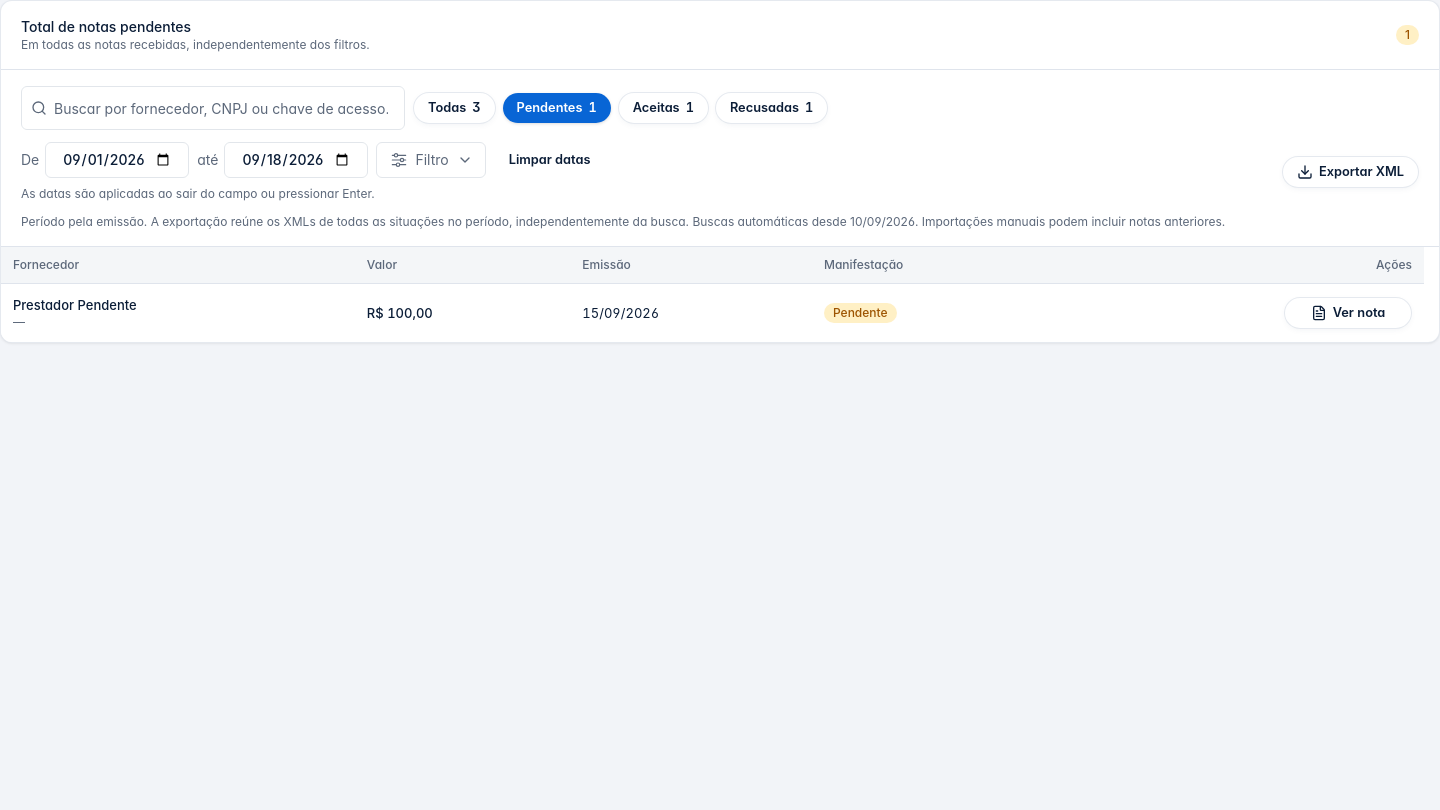
filtros e ações da interface › mantém aceite e recusa dentro dos detalhes e exige confirmação
The image size is (1440, 810).
Expected: the button "Recusar" is not shown
Click the button "Ver nota": (1348, 313) x1=1284 y1=297 x2=1412 y2=329
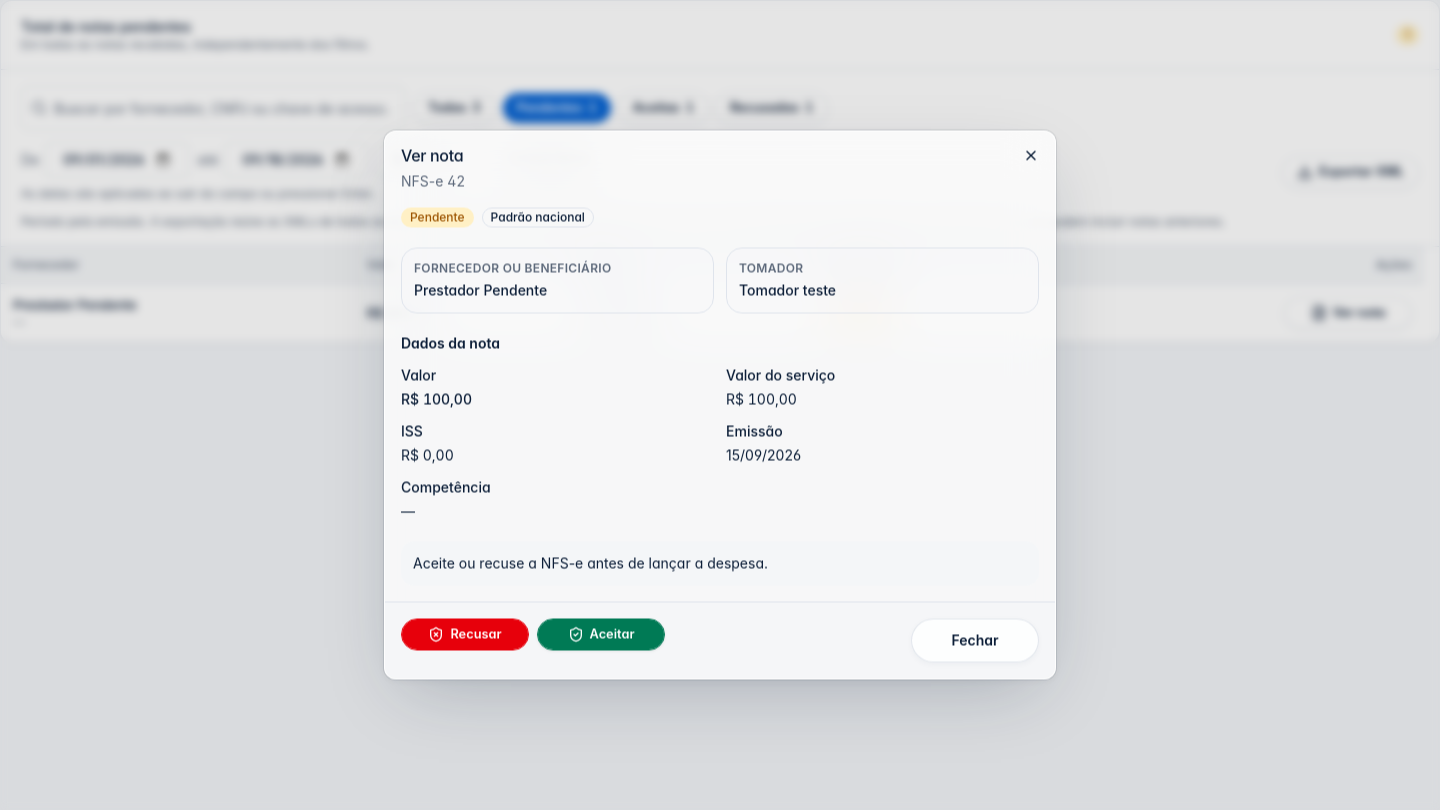
Click the button "Recusar": (465, 634) x1=401 y1=618 x2=529 y2=650
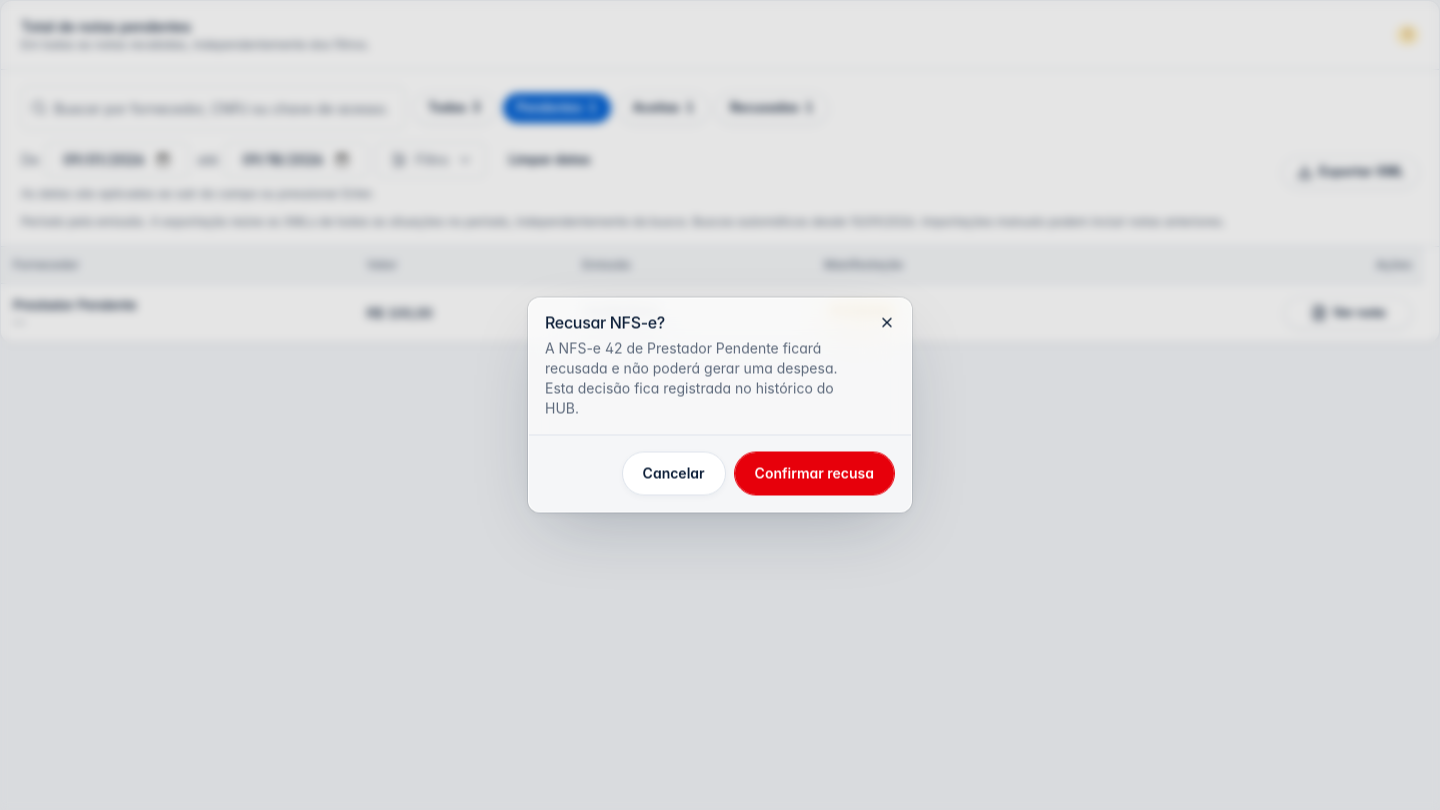
Expected: the dialog is shown, x1=528 y1=298 x2=912 y2=512
Click the button "Confirmar recusa": (814, 474) x1=734 y1=452 x2=895 y2=496
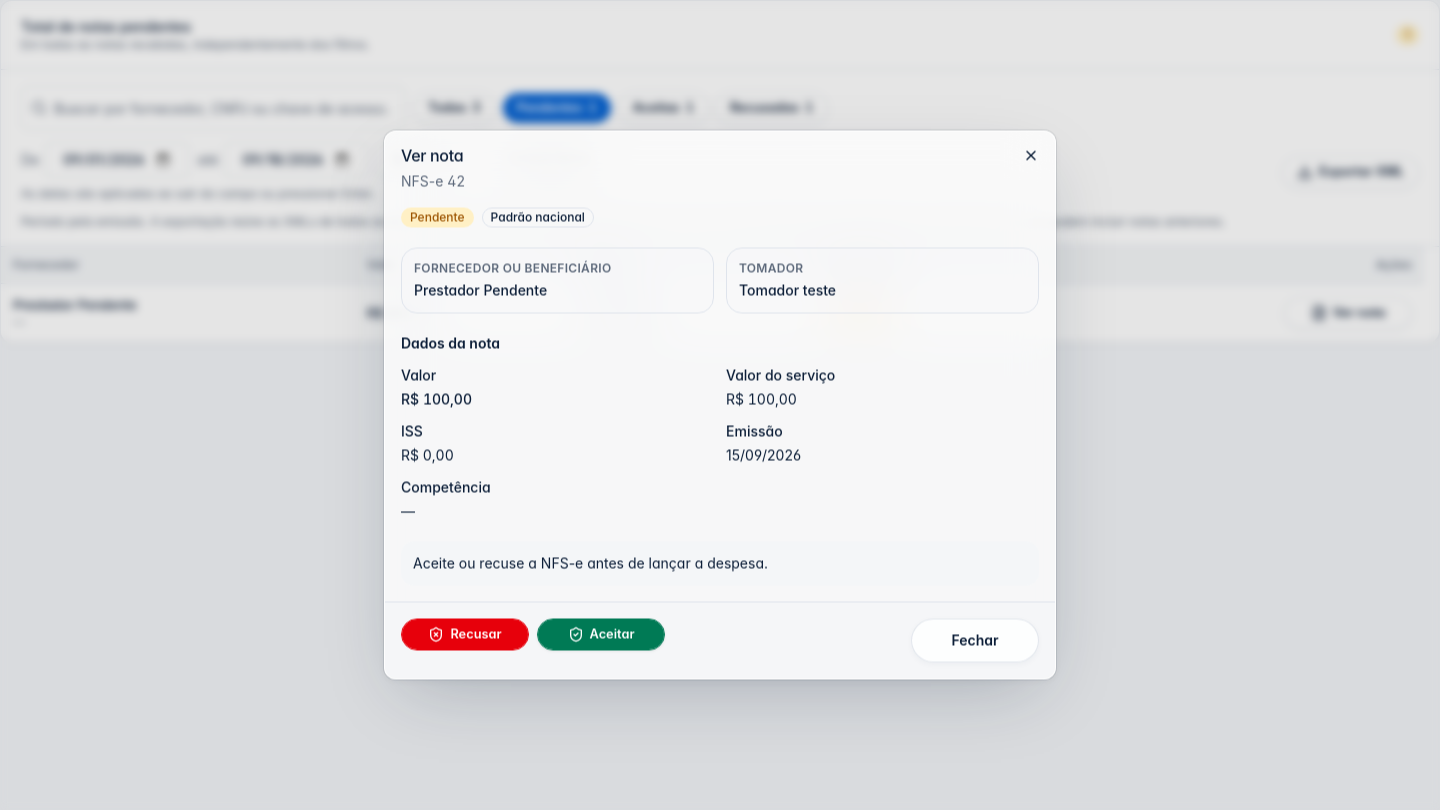
Expected: the number of dialogs is 1, x1=384 y1=130 x2=1056 y2=680
